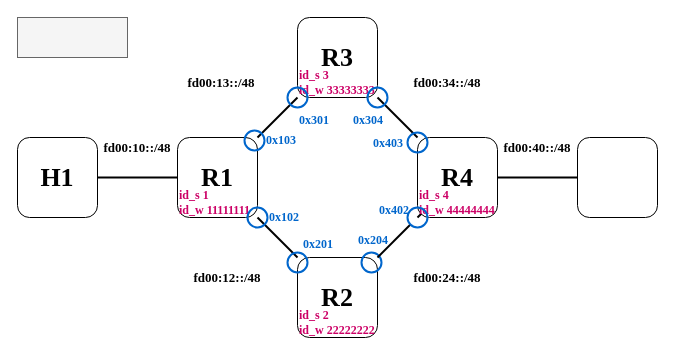
Image size: 675x355. Some labels were removed from this diagram. Here are the shapes that lost their labels. From the top down, the centre of each, then its label:
At point (72, 37): "id_s: node id (short) id_w: node id (wide)".
At point (617, 177): "H2".
